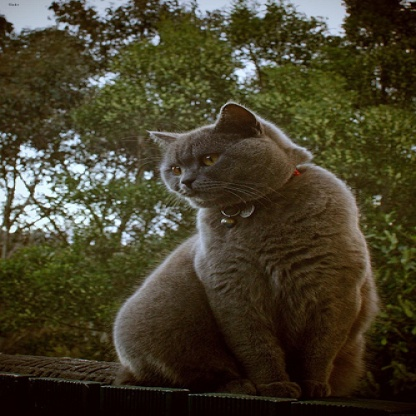british_shorthair: (114, 103, 374, 397)
